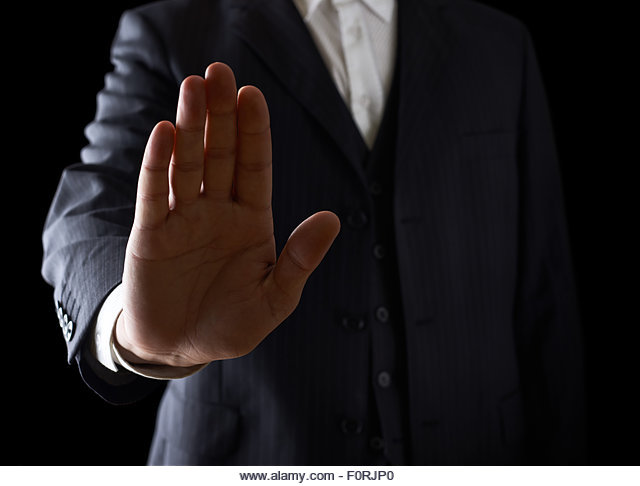hand: (78, 51, 348, 373)
